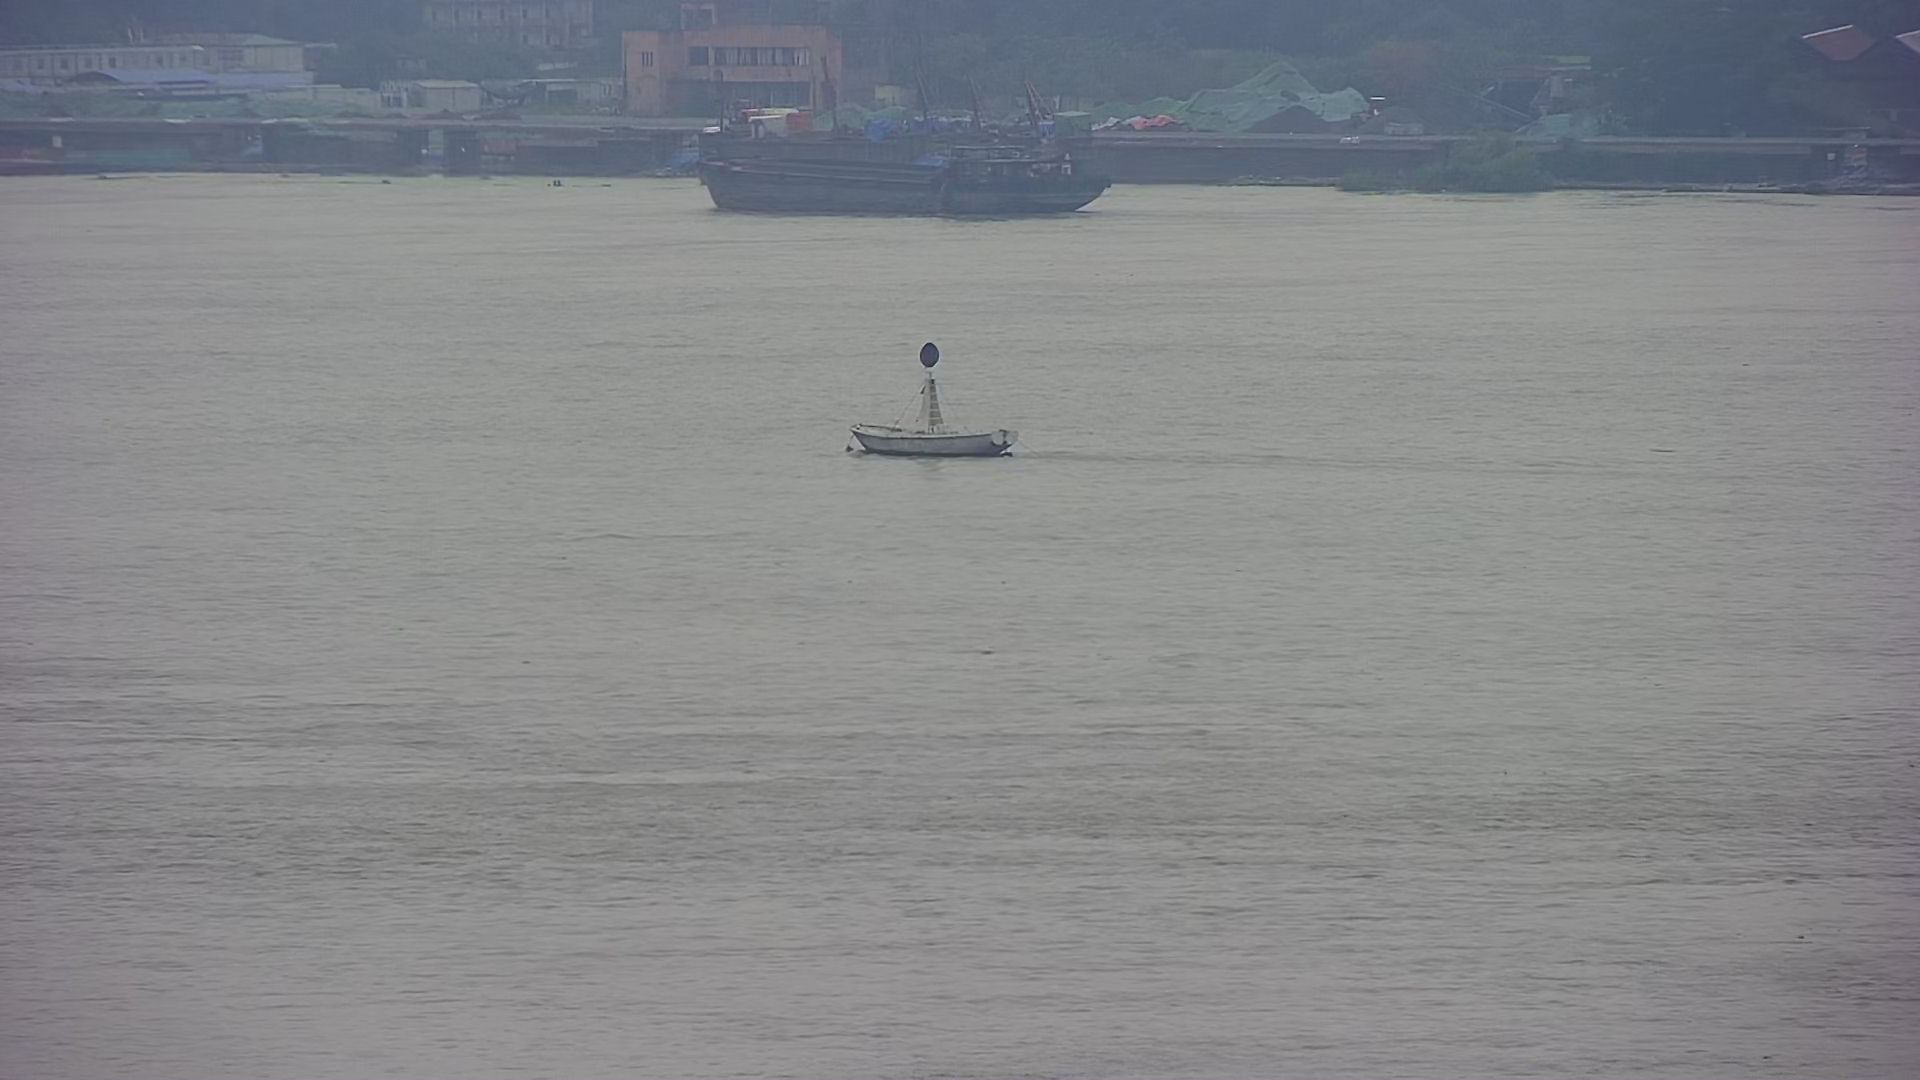boat: (849, 342, 1025, 460)
ship: (702, 142, 1112, 218)
